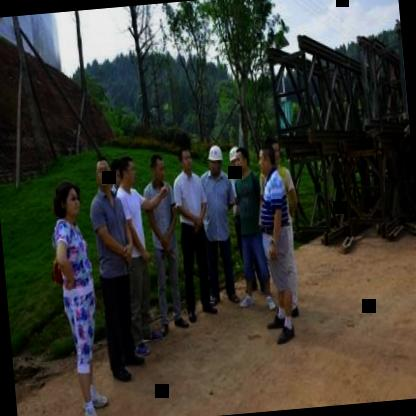head: (51, 178, 85, 224), (90, 152, 115, 196), (147, 147, 168, 186), (119, 154, 138, 191), (258, 140, 277, 176), (176, 142, 194, 175), (109, 156, 125, 193), (233, 144, 252, 175), (268, 133, 284, 166)
helmet: (204, 140, 228, 178), (228, 142, 242, 174)
